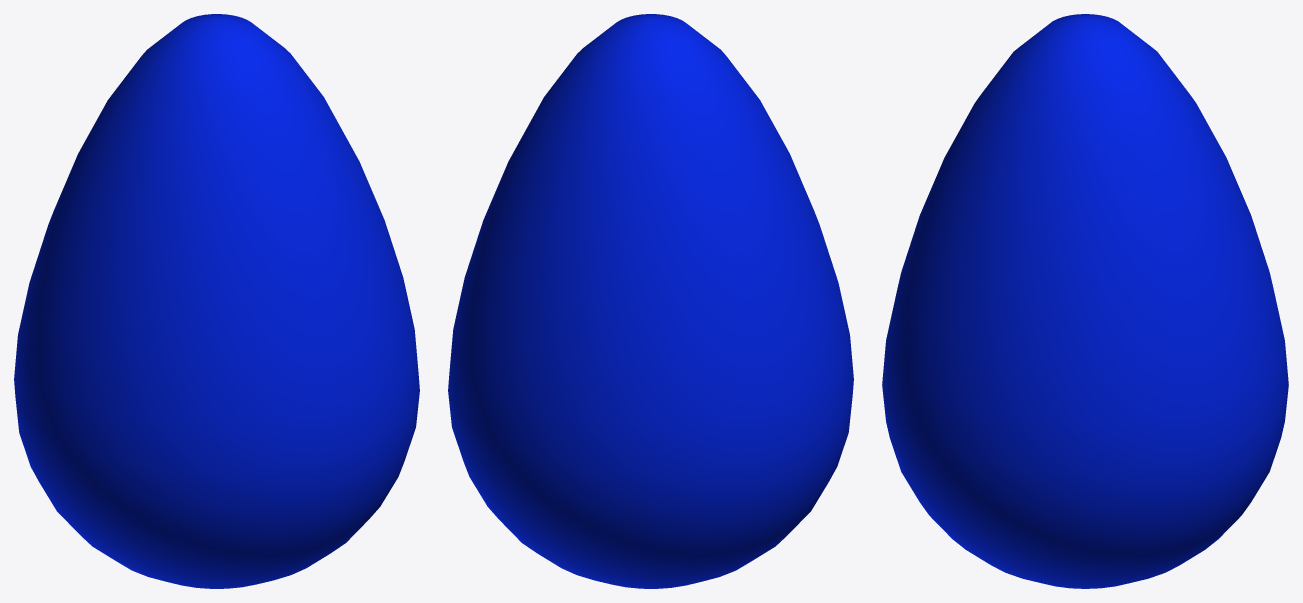
Rendered from Egg.fbx.
The picture shows the model from 3 angles, left to right: view 1: azimuth 30°, elevation 25°; view 2: azimuth 150°, elevation 25°; view 3: azimuth 270°, elevation 25°; orthographic projection.
Parts seen in each view (by area): view 1: Sphere; view 2: Sphere; view 3: Sphere.
Boxes of the visible parts, left/top/right/bottom form: Sphere: left=14, top=14, right=419, bottom=588; Sphere: left=448, top=14, right=853, bottom=588; Sphere: left=882, top=14, right=1288, bottom=588.
Bounding box in the file's own units: 4 × 5.99 × 4.
